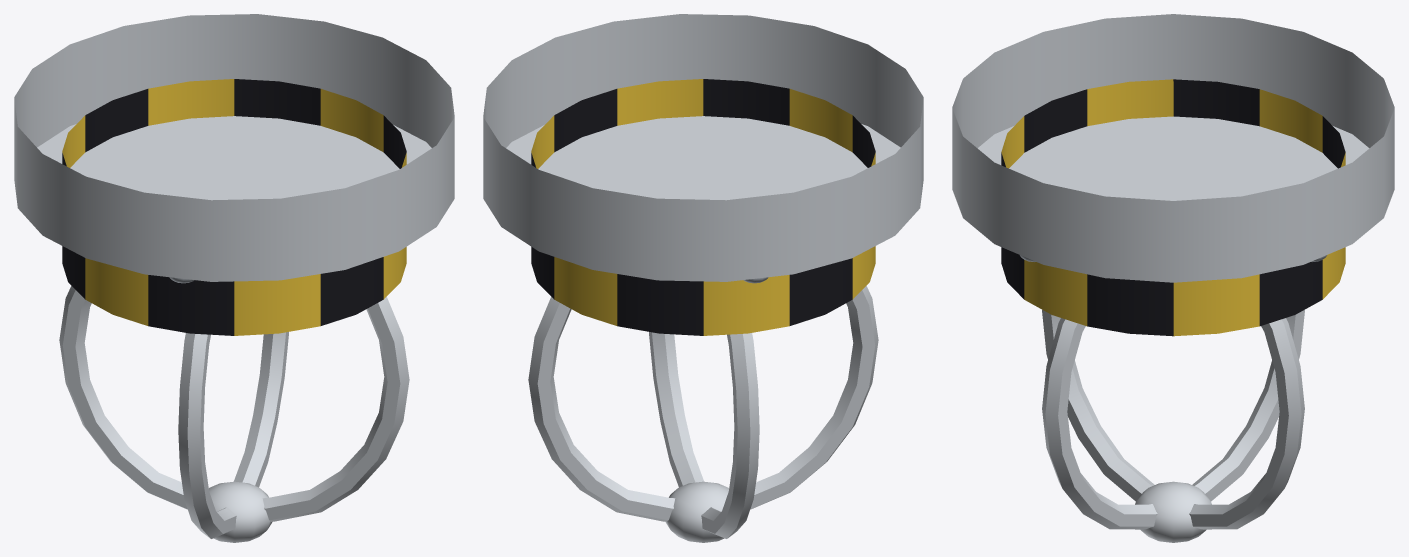
The model's file is Baliza.fbx.
3 views of the same model, side by side, from view 1: azimuth 30°, elevation 25°; view 2: azimuth 150°, elevation 25°; view 3: azimuth 270°, elevation 25° (orthographic).
Parts seen in each view (by area): view 1: Baliza; view 2: Baliza; view 3: Baliza.
Part boxes in pixels (x1=…): Baliza: x1=14, y1=14, x2=454, y2=542; Baliza: x1=483, y1=14, x2=923, y2=542; Baliza: x1=952, y1=14, x2=1394, y2=542.
Bounding box in the file's own units: 0.54 × 0.58 × 0.54.
1 material, 1 textured.
